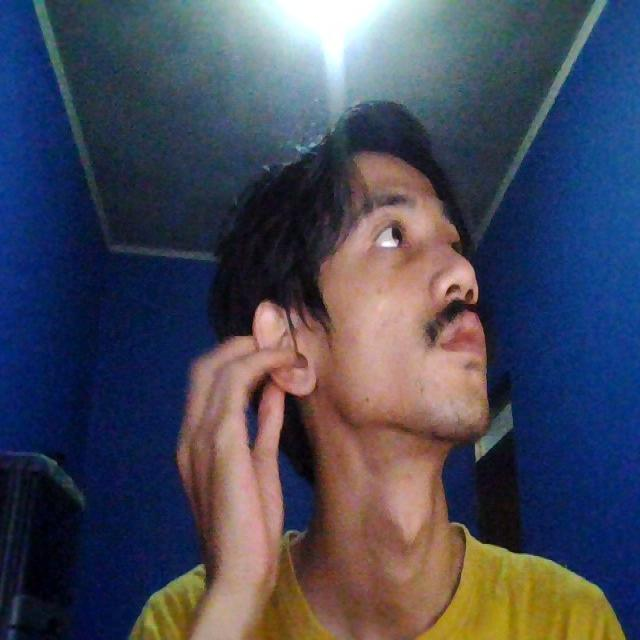melihat kekiri: (165, 115, 536, 483)
movement: (135, 288, 307, 614)
